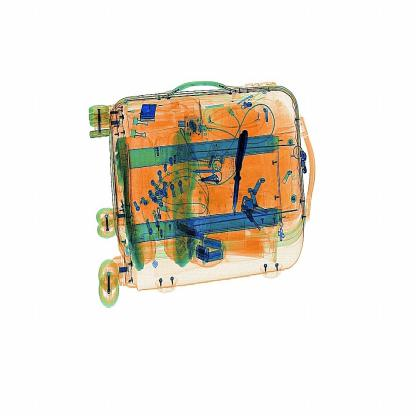gun: (227, 112, 252, 222)
